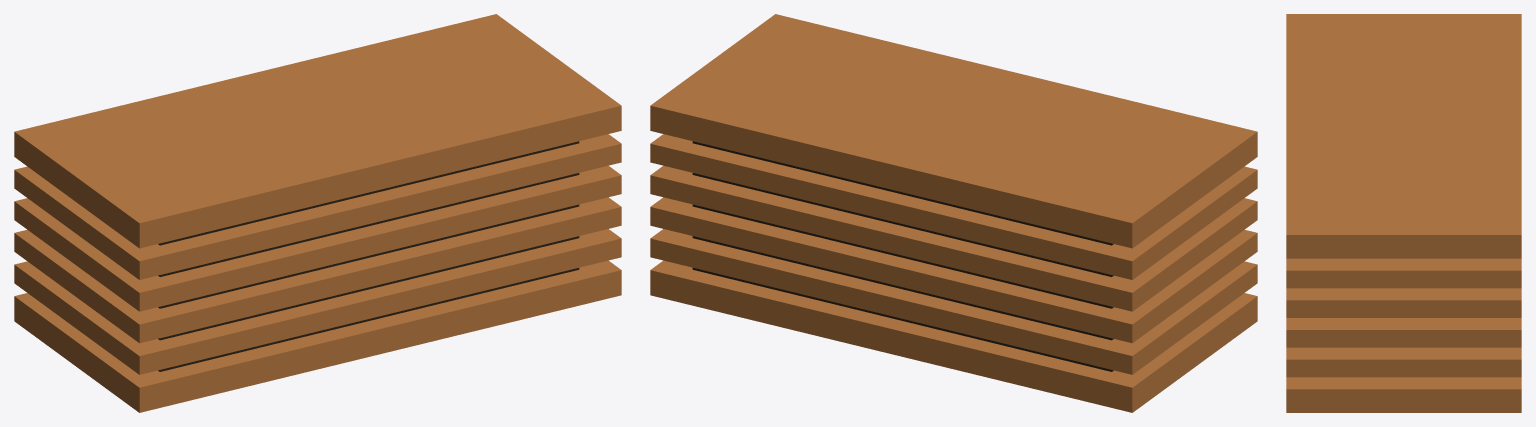
Rendered from 18_banghe.fbx.
The picture shows the model from 3 angles, left to right: view 1: azimuth 30°, elevation 25°; view 2: azimuth 150°, elevation 25°; view 3: azimuth 270°, elevation 25°; orthographic projection. The views are drawn at different scales.
Parts seen in each view (by area): view 1: bangghe; view 2: bangghe; view 3: bangghe.
Boxes of the visible parts, x1,y1,x2,y2 form: bangghe: (14,14,621,412); bangghe: (650,14,1257,412); bangghe: (1286,14,1521,412).
Size of the model in its own units: 89.94 by 33.81 by 40.45.
